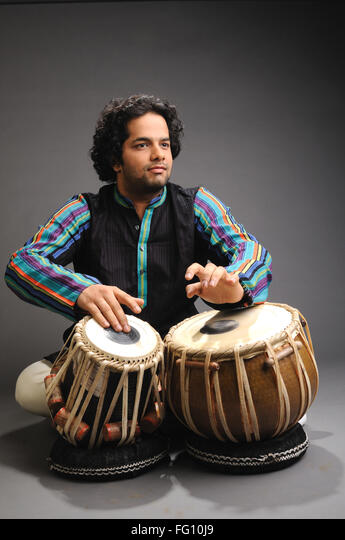tabla: (162, 302, 316, 449), (52, 316, 161, 447)
